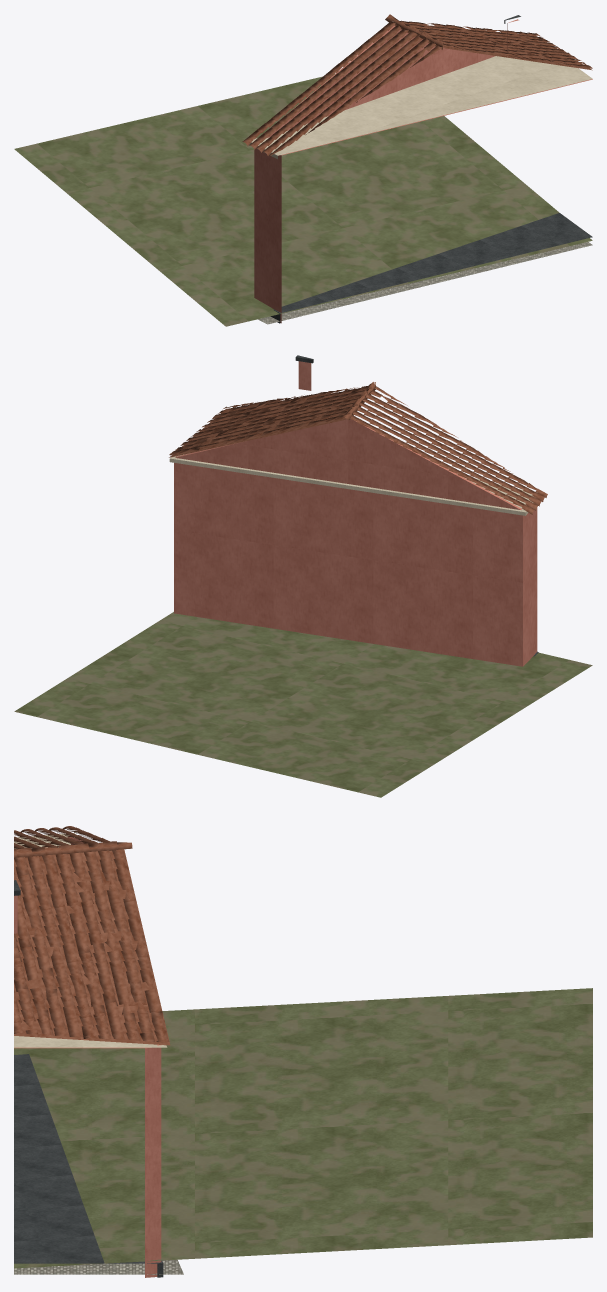
The picture shows the model from 3 angles, top to bottom: view 1: azimuth 30°, elevation 25°; view 2: azimuth 150°, elevation 25°; view 3: azimuth 270°, elevation 25°; orthographic projection. The views are drawn at different scales.
Size of the model in its own units: 16 by 10.35 by 16.
6 materials, 6 textured.
